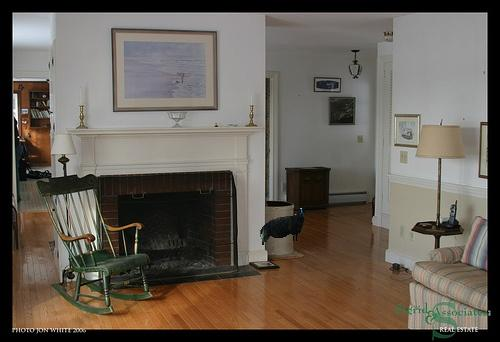tampered: (261, 209, 306, 245)
